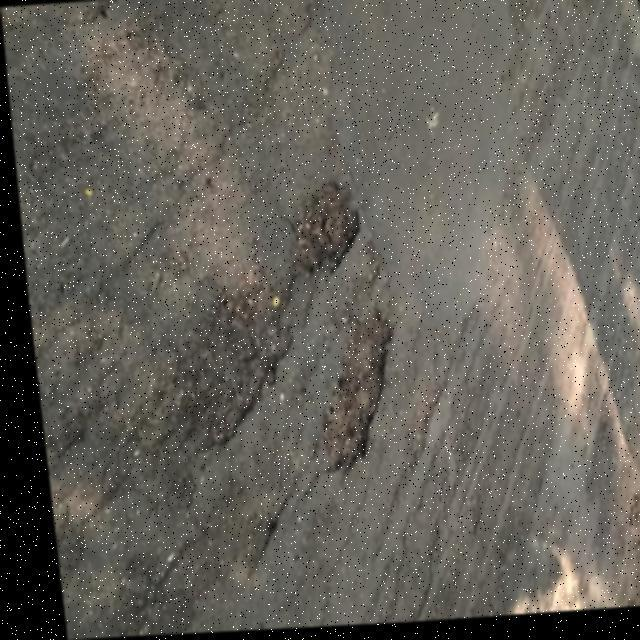pothole: (284, 295, 412, 484), (275, 158, 368, 290)
